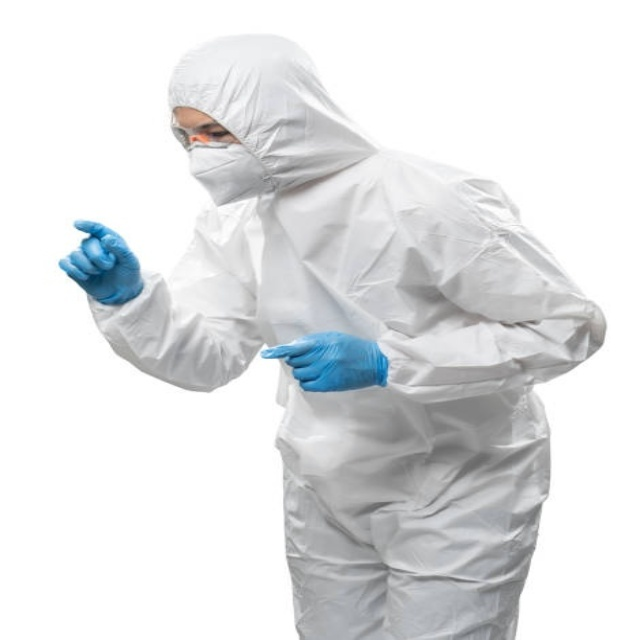Gafas: (171, 114, 236, 152)
Guantes: (262, 331, 389, 392), (60, 219, 144, 306)
Mascara: (186, 137, 275, 206)
